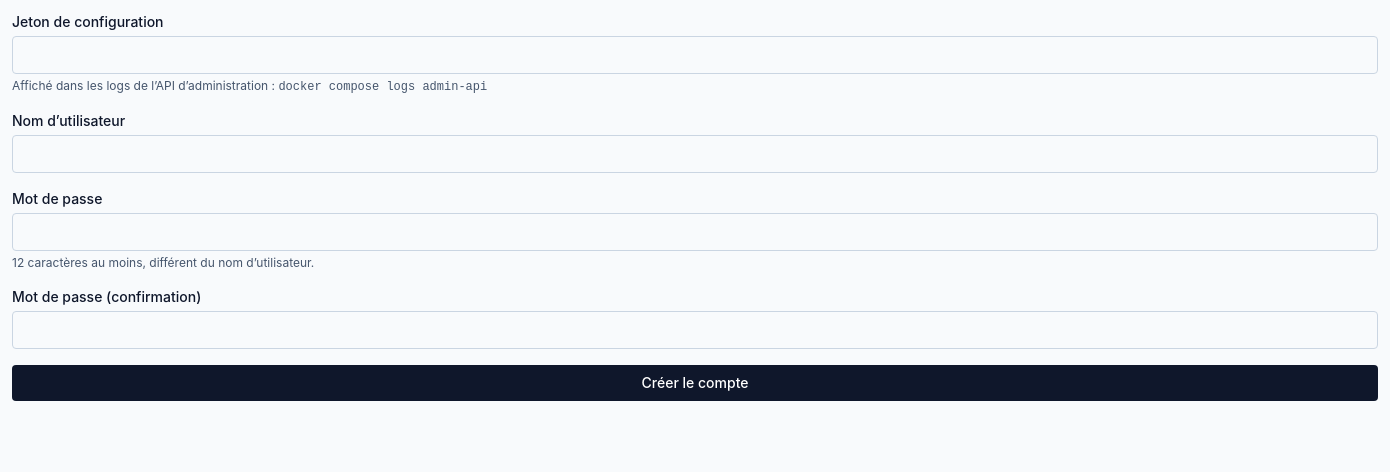
Test: SetupForm › refuses a password shorter than 12 characters, in French too
The image size is (1390, 472).
Type "setup-token" into the field labelled "Jeton de configuration".
click(695, 55); type("setup-token")  # box [12,36,1378,74]
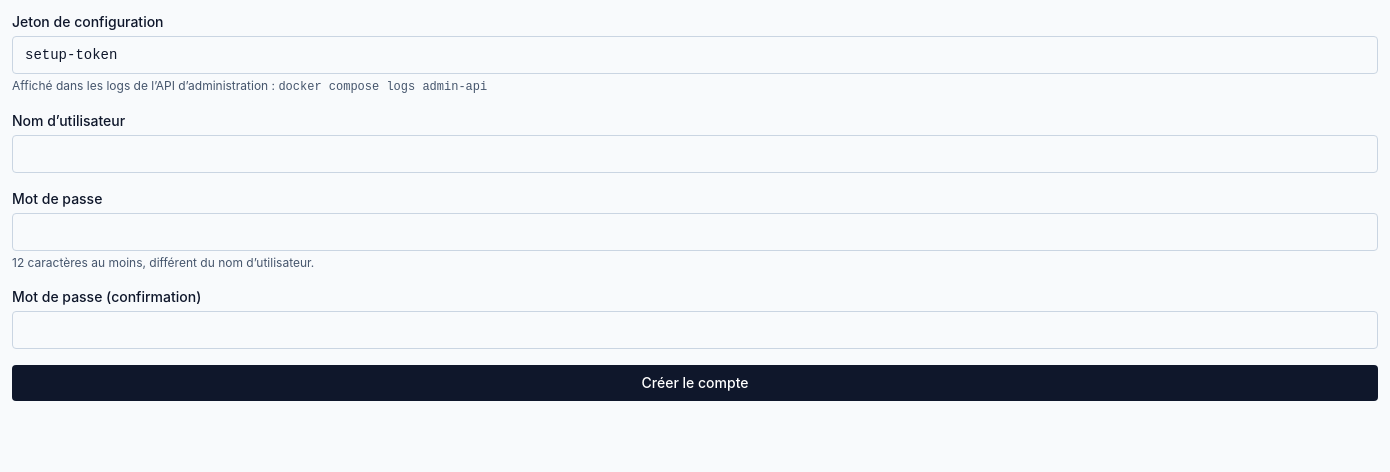
Type "alice" into the field labelled "Nom d’utilisateur".
click(695, 154); type("alice")  # box [12,135,1378,173]
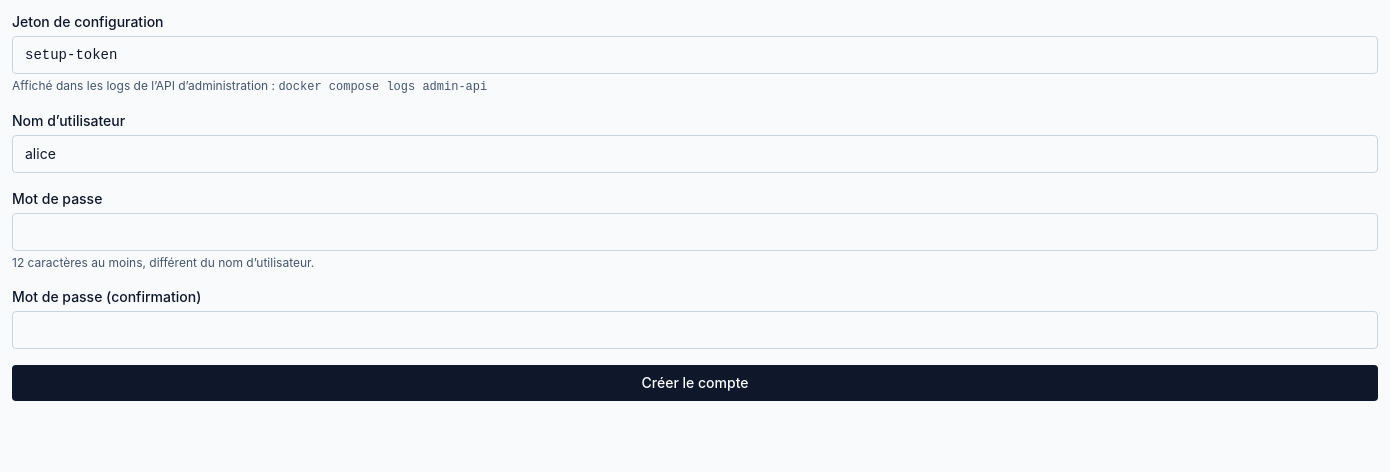
Type "short" into the password field labelled "Mot de passe".
click(695, 232); type("short")  # box [12,213,1378,251]
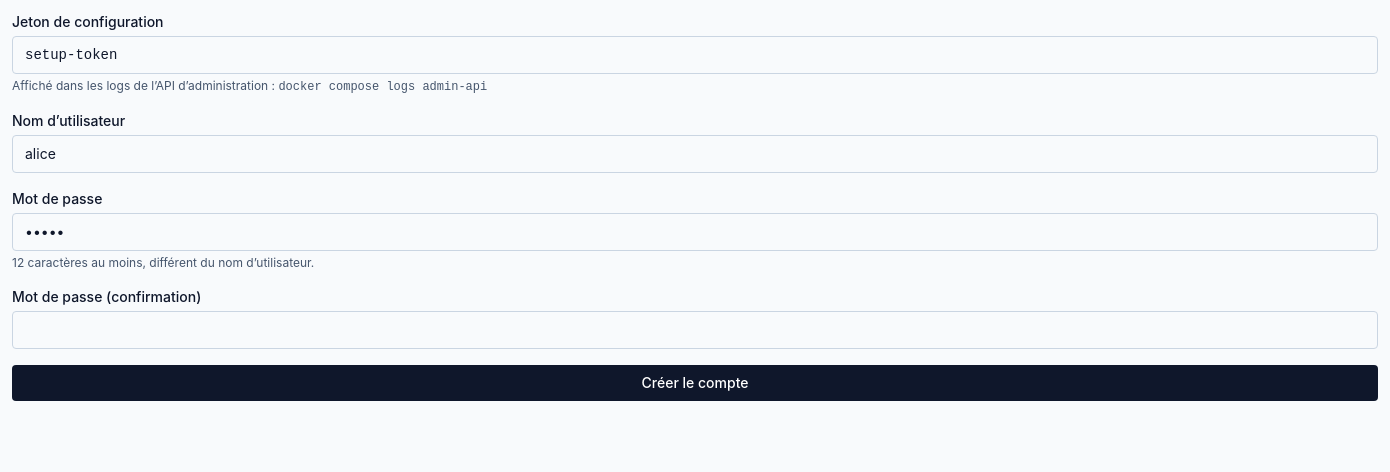
Type "short" into the password field labelled "Mot de passe (confirmation)".
click(695, 330); type("short")  # box [12,311,1378,349]
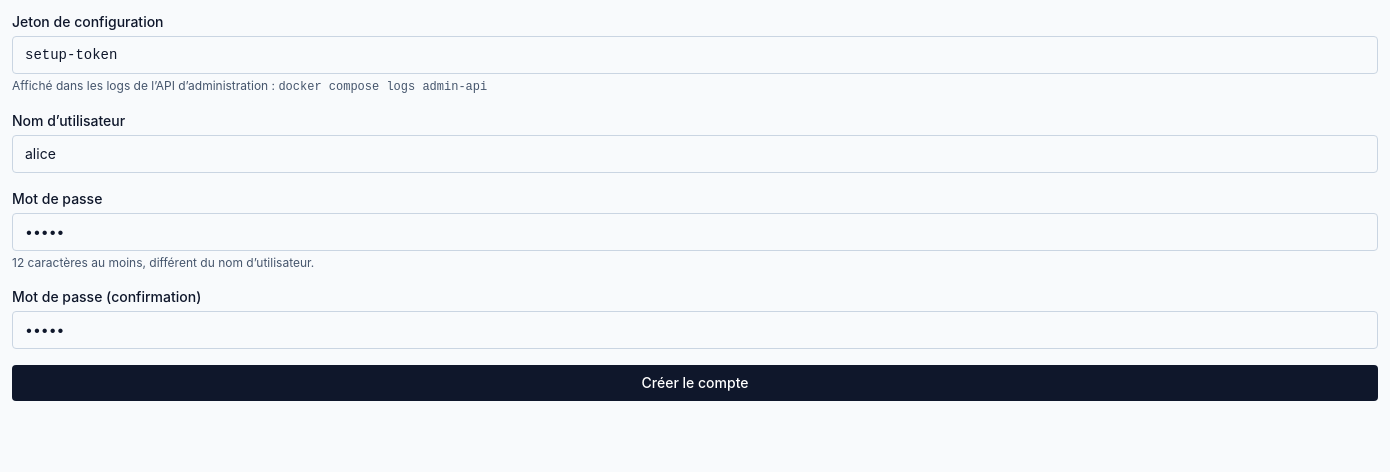
Click the button "Créer le compte".
click(695, 383)  # box [12,365,1378,401]
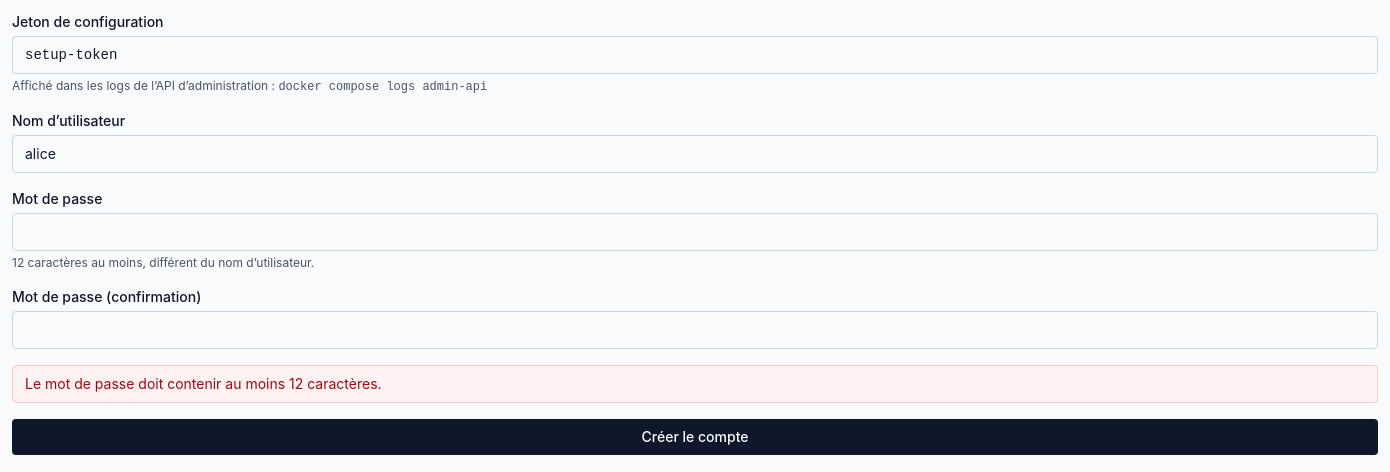
Now the message reads "Le mot de passe doit contenir au moins 12 caractères.", box [25,375,382,392]
